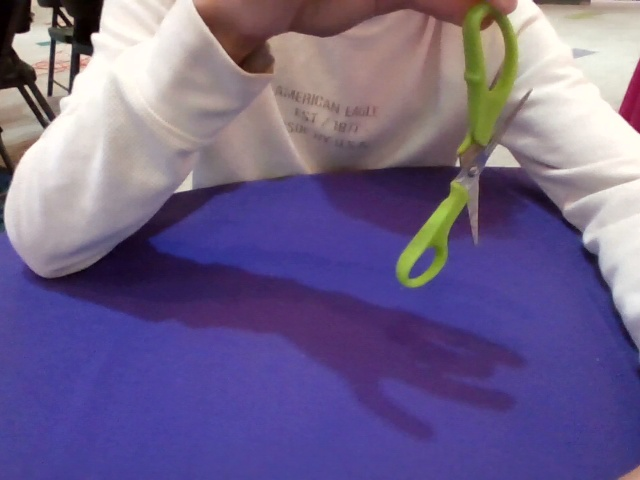tijeras: (397, 6, 528, 291)
